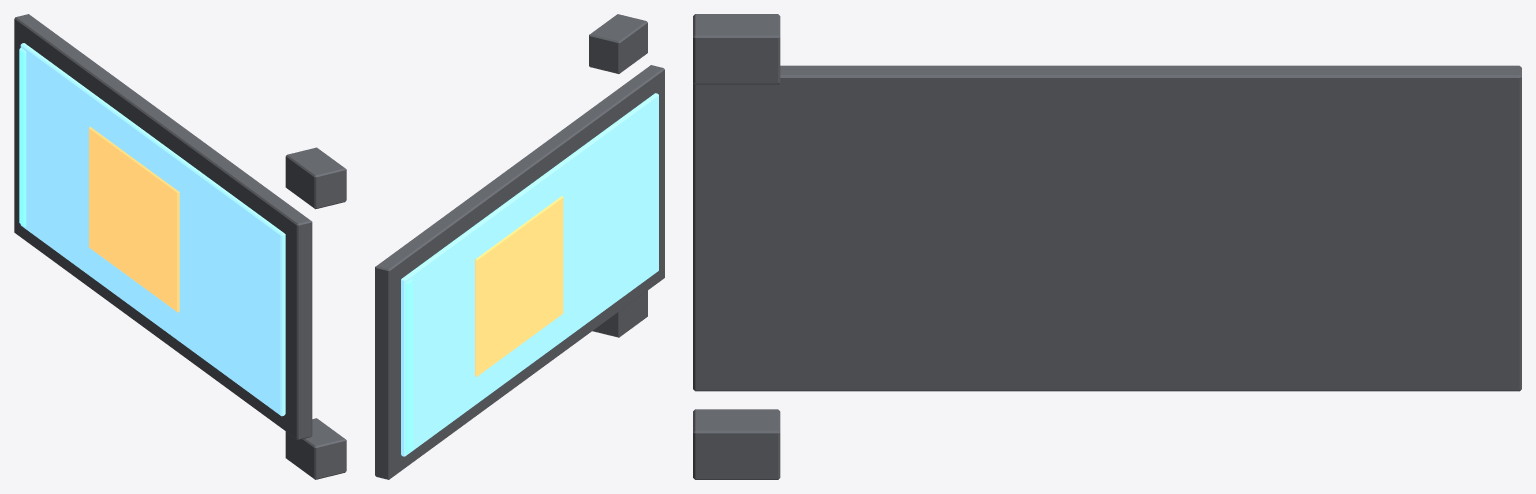
Rendered from ad_board_tall.glb.
3 views of the same model, side by side, from view 1: azimuth 30°, elevation 25°; view 2: azimuth 150°, elevation 25°; view 3: azimuth 270°, elevation 25° (orthographic). The views are drawn at different scales.
Visible parts, largest first — view 1: AdBoard_tall; view 2: AdBoard_tall; view 3: AdBoard_tall.
Boxes of the visible parts, left/top/right/bottom form: AdBoard_tall: left=14, top=14, right=346, bottom=479; AdBoard_tall: left=375, top=14, right=664, bottom=479; AdBoard_tall: left=693, top=14, right=1521, bottom=479.
Size of the model in its own units: 0.445 by 2.25 by 3.8.
